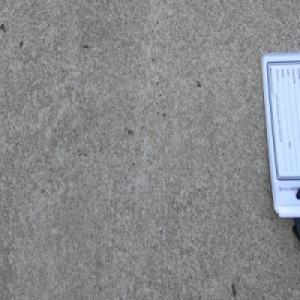LuggageTag: (259, 49, 300, 247)
